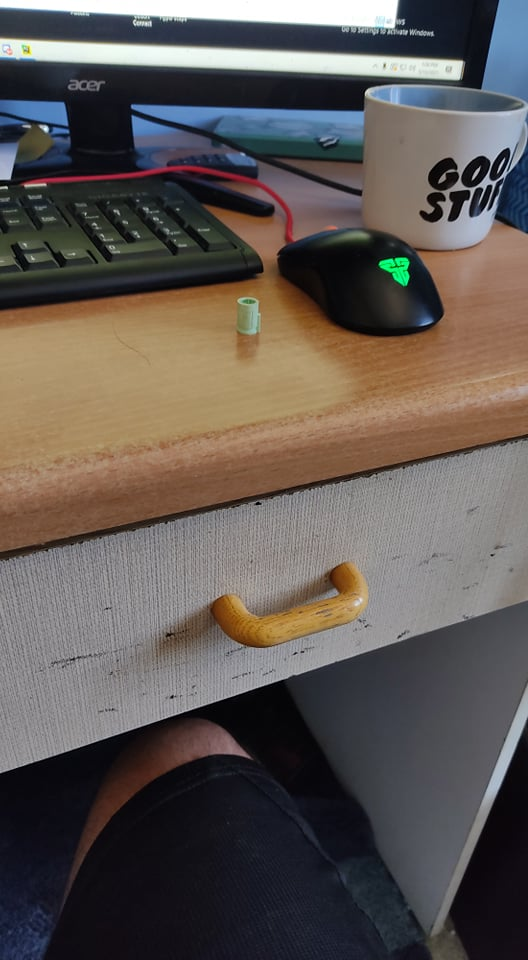green_bucking: (227, 288, 268, 345)
